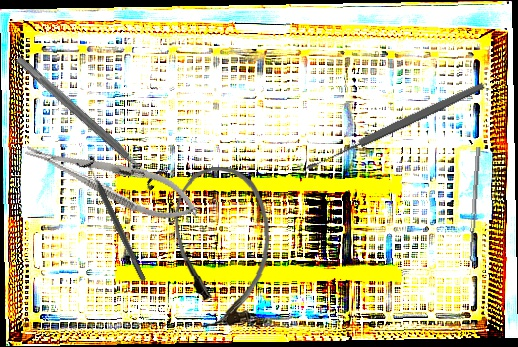Cannula: (170, 164, 275, 329)
Fixation Ring: (8, 47, 169, 193), (75, 154, 153, 286)
Needle Holder: (18, 128, 206, 232)
Spatula Surgical: (467, 146, 486, 267)
Surgical Spoon: (303, 80, 487, 173)
